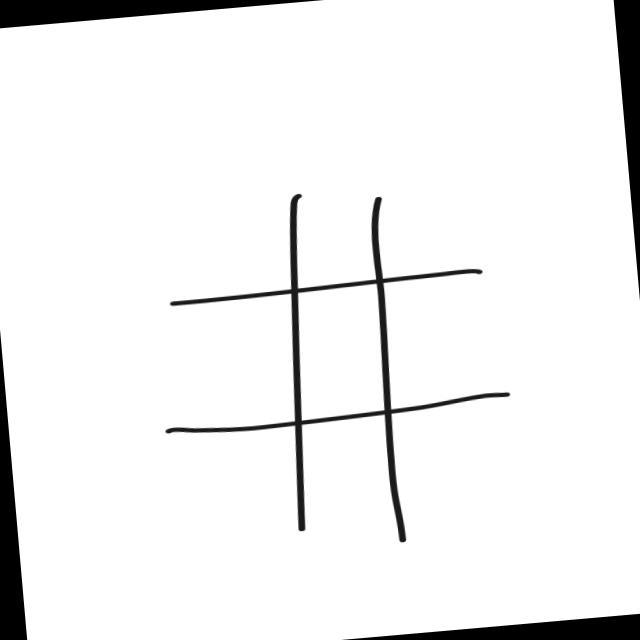grid: (131, 176, 531, 559)
